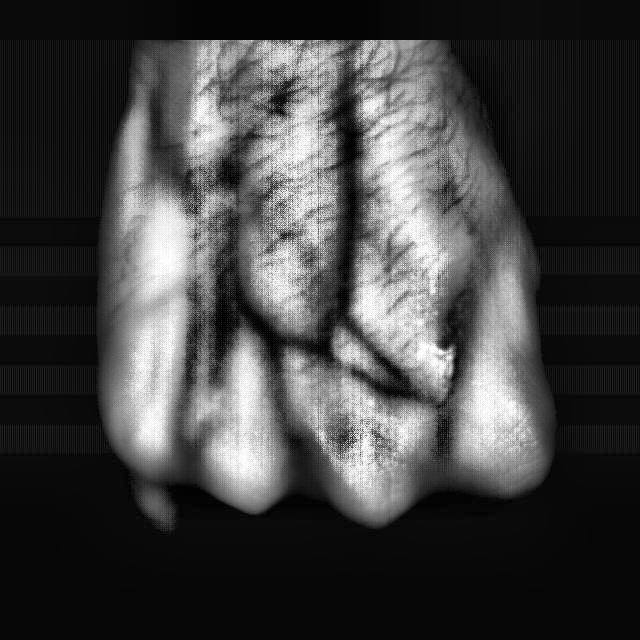Vein: (329, 87, 362, 291), (171, 176, 201, 377)
